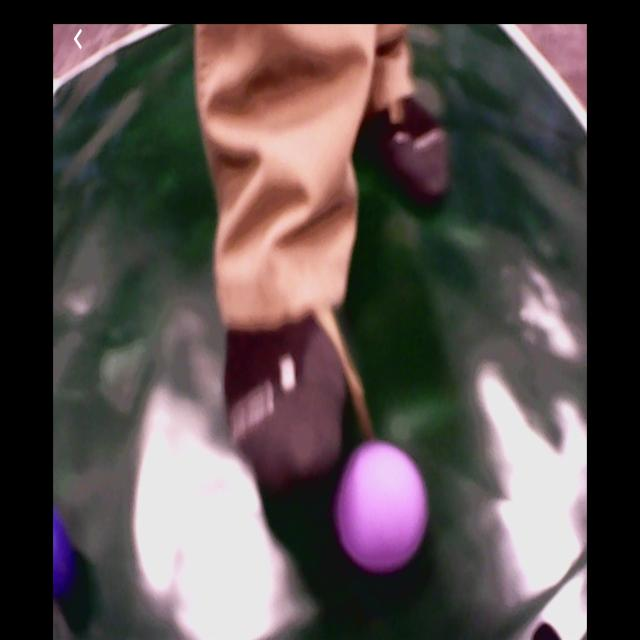ball: (338, 442, 429, 572), (56, 520, 82, 603)
